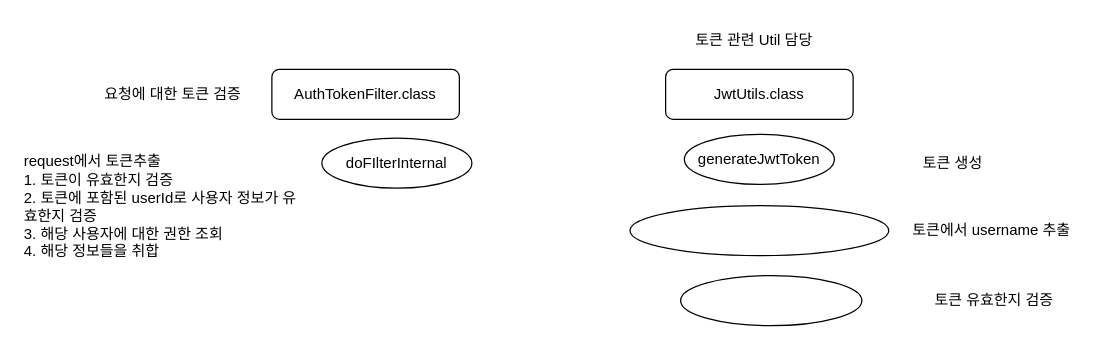
The diagram is 1109 pixels wide and 348 high, and some of its shapes have lost their labels. The box of each missing label's shape, as (x1, y1, x2, y2) in pixels:
getUsernameFromJwtToken: (629, 204, 889, 256)
validateJwtToken: (679, 274, 862, 326)
